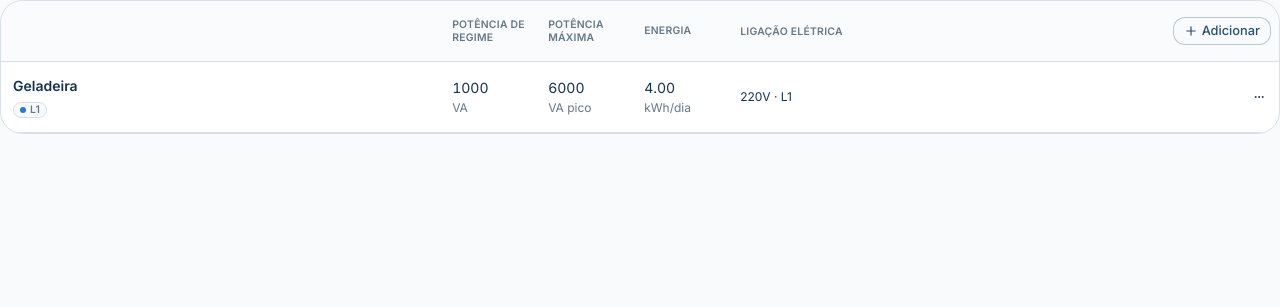
Test case: LoadTable › renders derived peak and daily energy values and toggles editing by keyboard
Expected: the text "1000" is shown, [452,79,488,96]
Expected: the text "6000" is shown, [548,79,584,96]
Press Enter in the row "Geladeira L1 1000 VA 6000 VA pico 4.00 kWh/dia 220V · L1", box [1,62,1279,133]
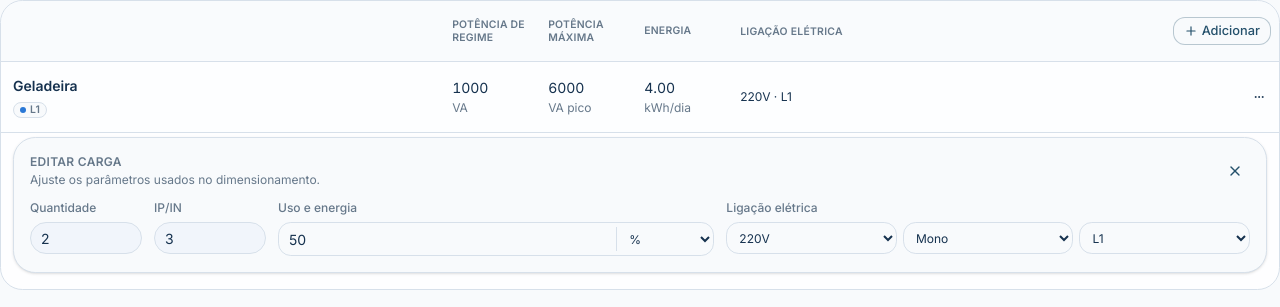
Expected: the text "Editar carga" is shown, [30,154,122,169]
Click the button named "Fechar edição de Geladeira".
click(1235, 171)  # box [1220,156,1250,186]
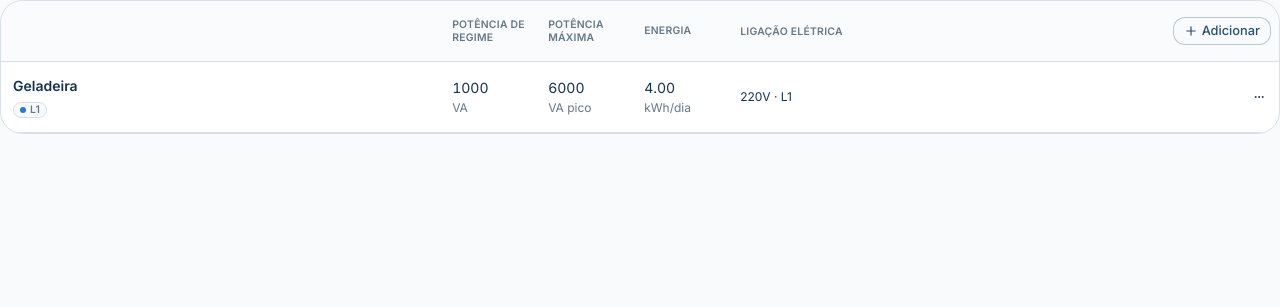
Expected: the text "Editar carga" is gone
